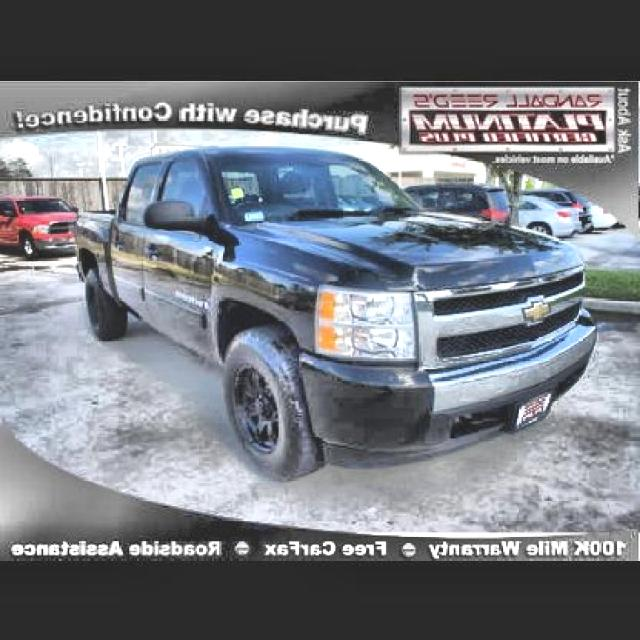black: (74, 147, 594, 471)
maroon: (1, 194, 78, 264)
